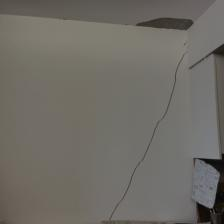High: (103, 13, 196, 224)
